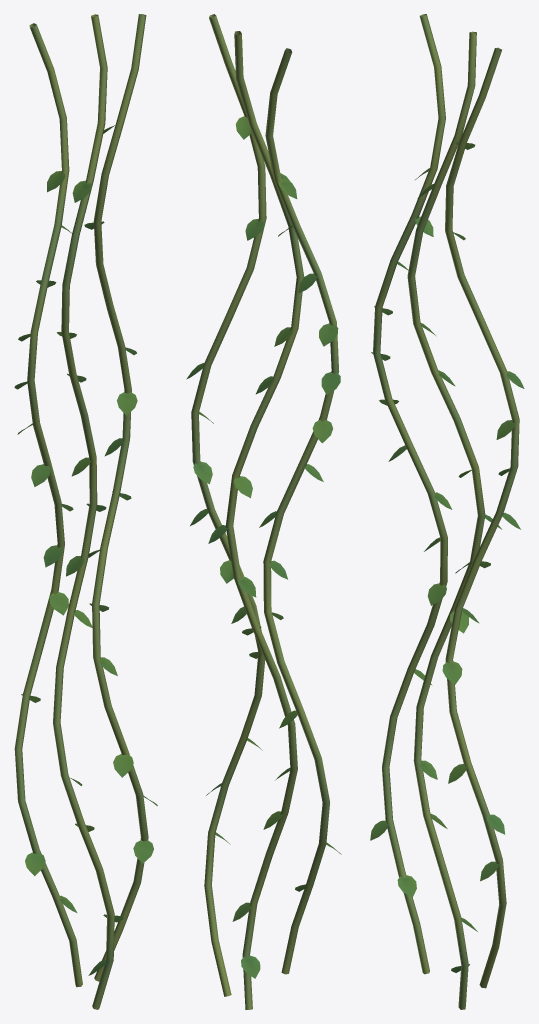
Rendered from liana.glb.
3 views of the same model, side by side, from view 1: azimuth 30°, elevation 25°; view 2: azimuth 150°, elevation 25°; view 3: azimuth 330°, elevation 25° (orthographic).
Visible parts, largest first — view 1: liana; view 2: liana; view 3: liana.
Part boxes in pixels (box(x1,y1,x2,y2)): liana: box(14, 14, 157, 1009); liana: box(186, 14, 341, 1009); liana: box(370, 14, 524, 1009).
Bounding box in the file's own units: 1.38 × 9.39 × 0.6954.
